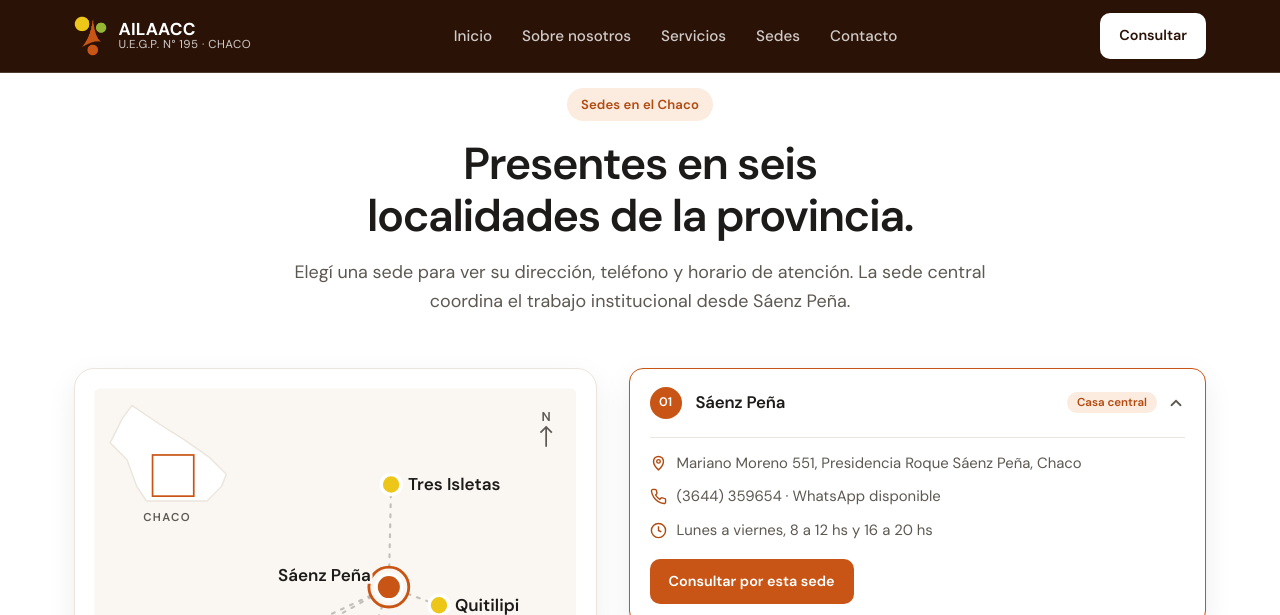
it: landing › el acordeón abre de a una sede y se sincroniza con el mapa
(page scrolled)
Click the button "01 Sáenz Peña Casa central" at coordinates (666, 403), box [630,369,1205,437]
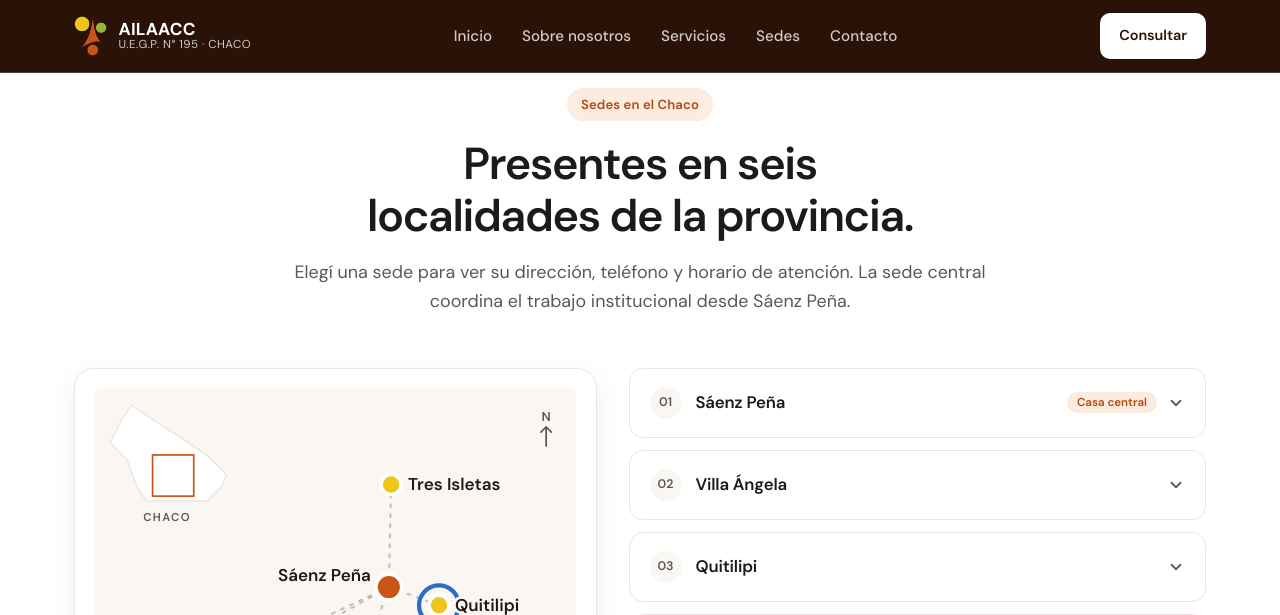
Now the button "01 Sáenz Peña Casa central" is collapsed, box [630,369,1205,437]
Press Enter
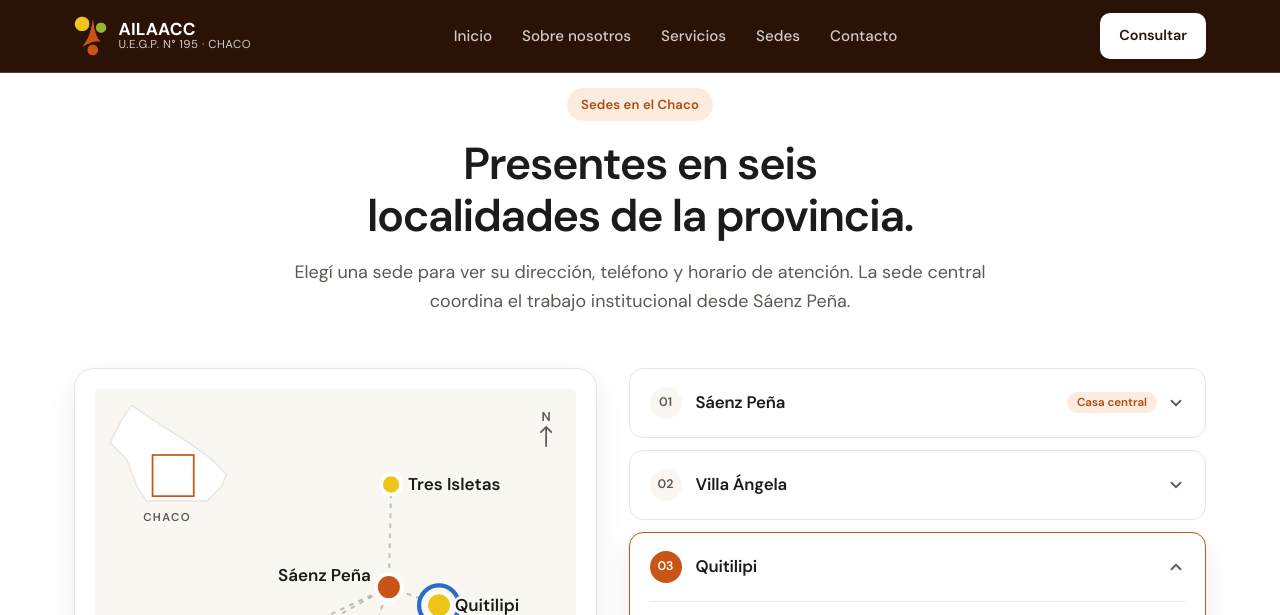
Now the button "03 Quitilipi" is expanded, box [630,533,1205,601]
